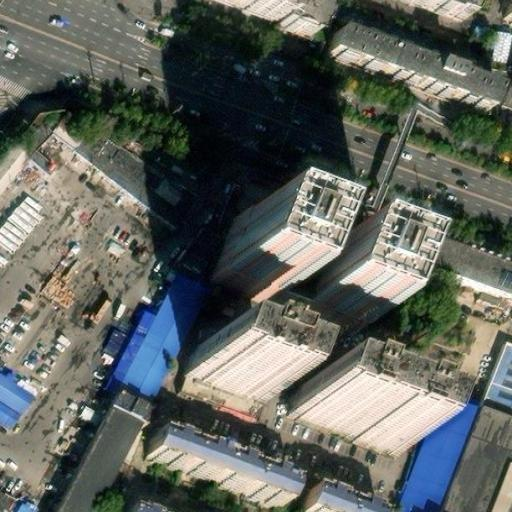building: (318, 24, 487, 107), (111, 272, 205, 413), (52, 125, 181, 222), (139, 426, 287, 505), (51, 398, 144, 512), (395, 398, 476, 512), (284, 381, 400, 450), (436, 414, 512, 512), (208, 213, 290, 297), (412, 243, 512, 308), (292, 247, 371, 329), (400, 317, 472, 402), (176, 341, 263, 403), (100, 314, 151, 398), (266, 237, 316, 307), (293, 480, 381, 512), (476, 350, 512, 428), (105, 144, 160, 189), (387, 288, 423, 345), (12, 125, 52, 176), (67, 117, 114, 156), (99, 322, 132, 361), (151, 176, 181, 203), (488, 26, 512, 58), (124, 497, 167, 511), (496, 78, 512, 112)
